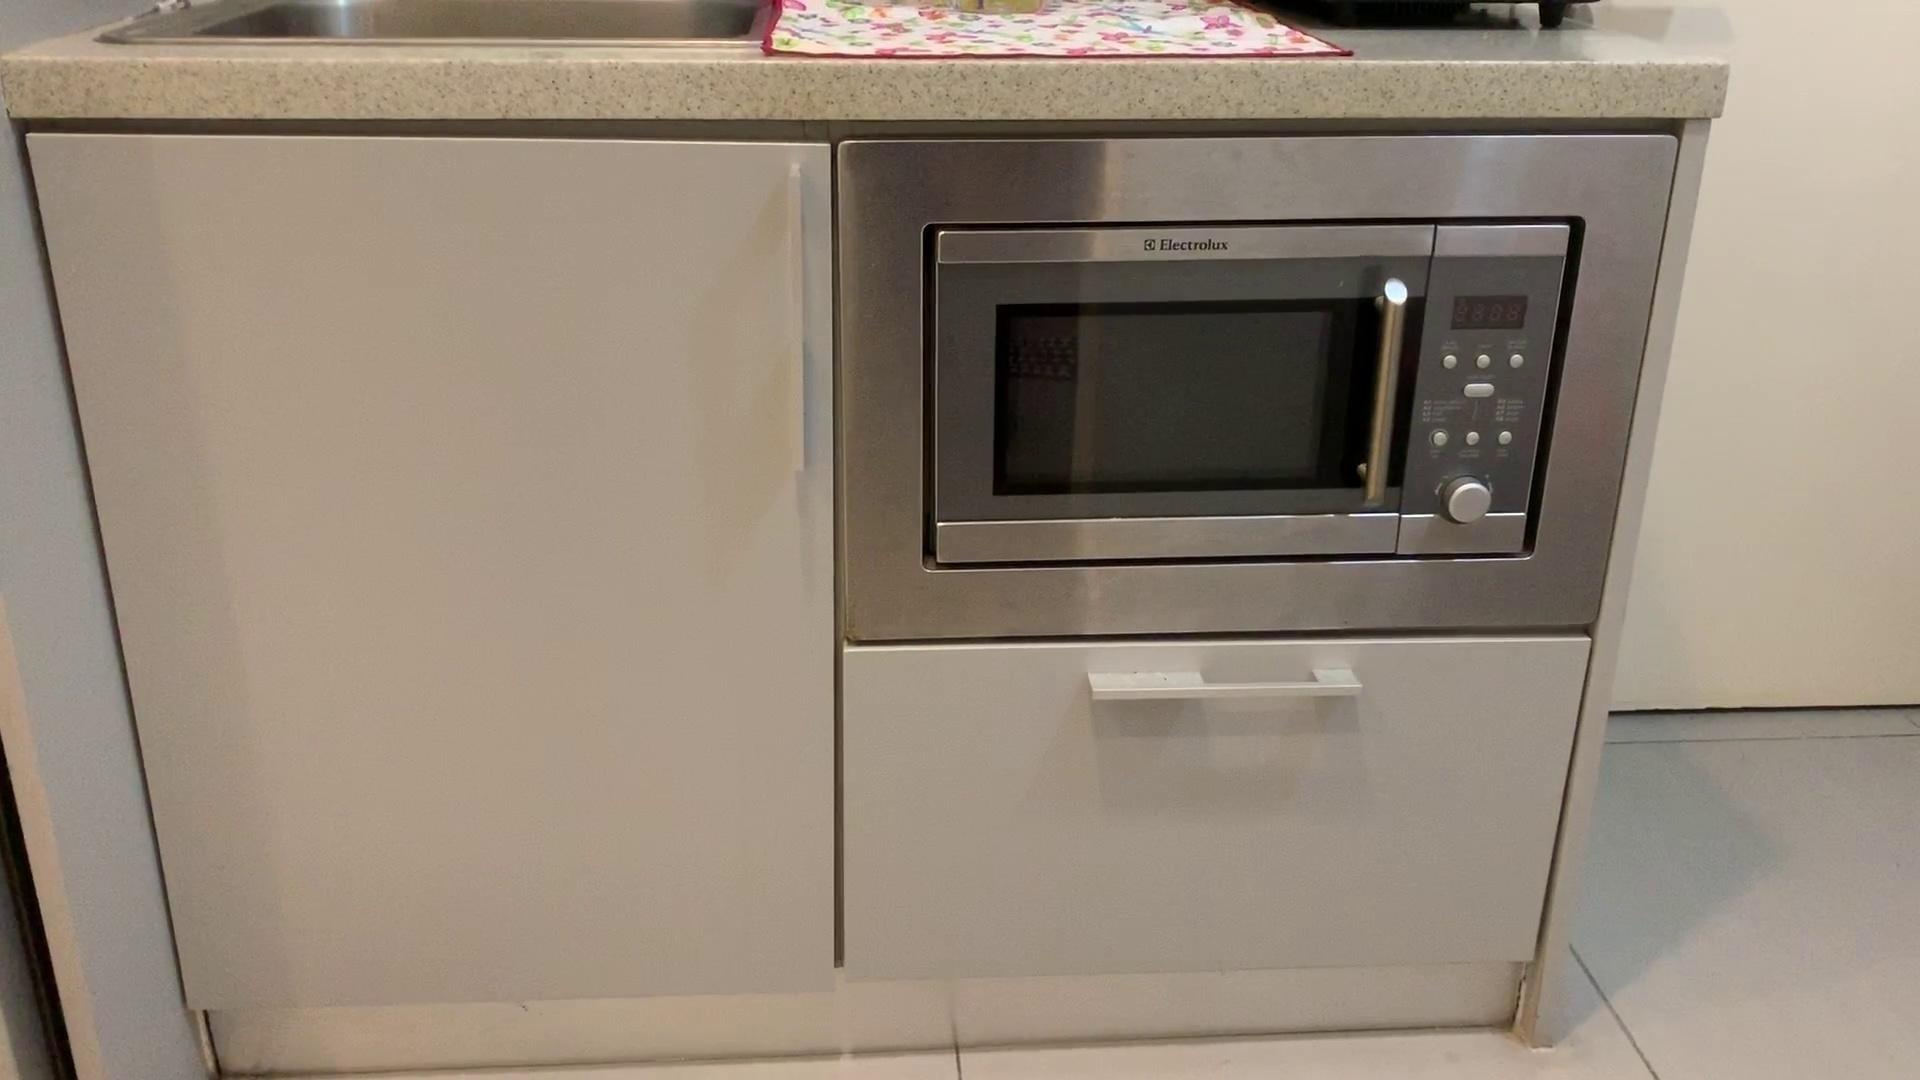cabinet_door: (860, 645, 1582, 972)
handle: (1348, 282, 1420, 516), (1071, 667, 1383, 716), (1598, 717, 1913, 761)
